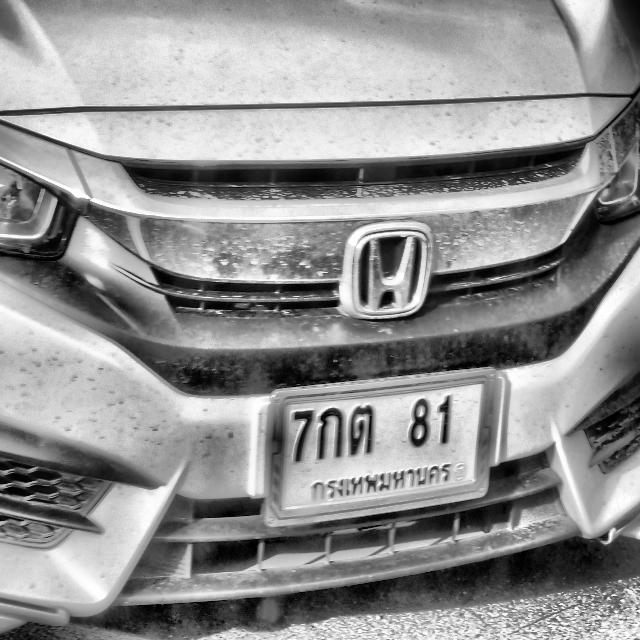license-plate: (259, 364, 503, 533)
